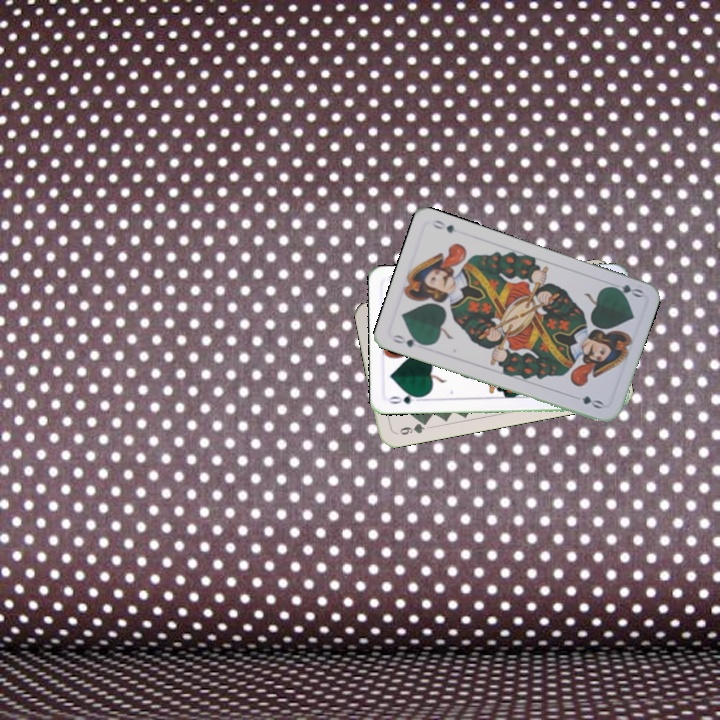G9: (391, 417, 431, 438)
GO: (604, 278, 645, 300), (388, 330, 428, 350), (385, 389, 425, 407)
